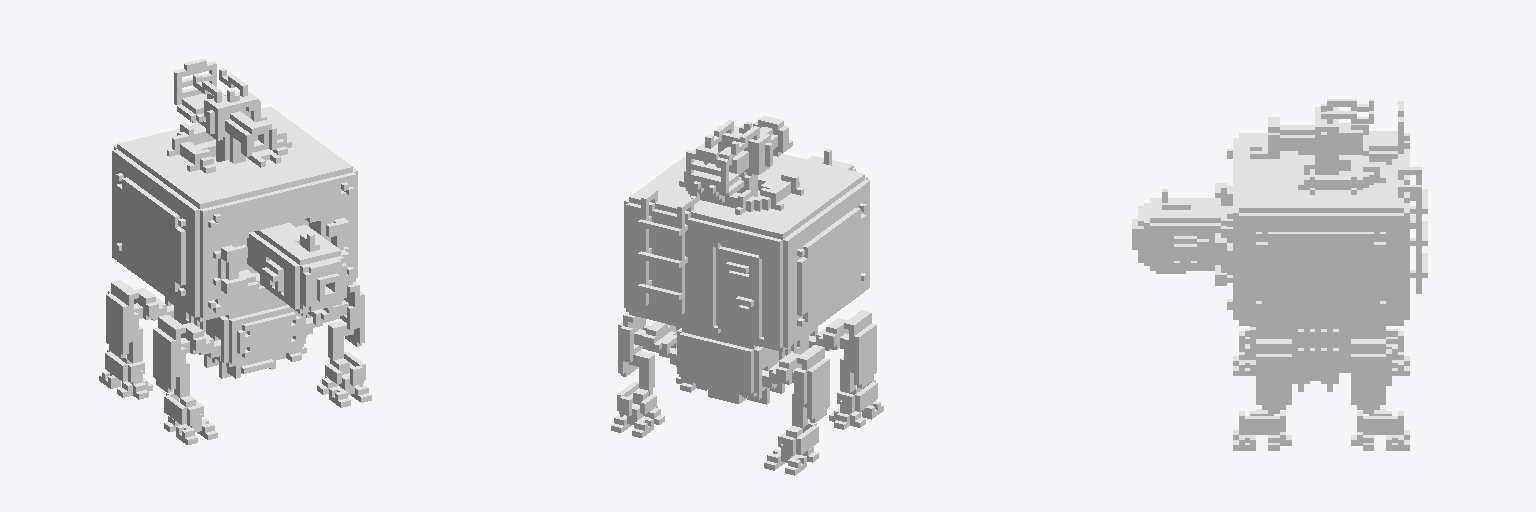
The model's file is QuadrupedTank.obj.
The picture shows the model from 3 angles: view 1: azimuth 30°, elevation 25°; view 2: azimuth 150°, elevation 25°; view 3: azimuth 270°, elevation 25°; orthographic projection.
Visible parts, largest first — view 1: object 1; view 2: object 1; view 3: object 1.
Part boxes in pixels (x1,y1,x2,y2): object 1: (99,59,371,444); object 1: (611,116,883,475); object 1: (1132,99,1427,450).
Size of the model in its own units: 3.8 by 5.6 by 5.